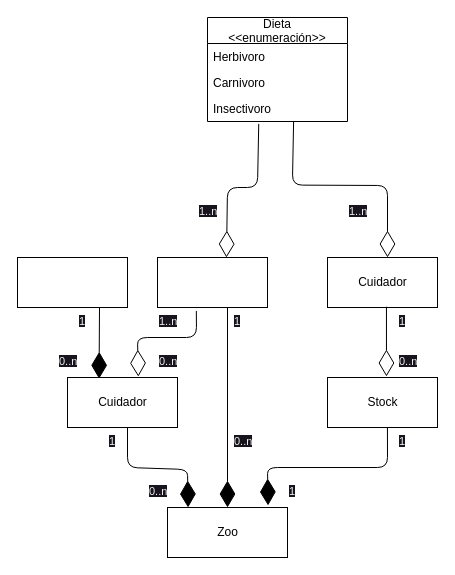
Some shapes in this 455 by 575 pixel diagram are drawn without their labels. Each missing label, with the centre of its shape:
"Animal" belongs at pixel 212 282.
"Vacaciones" belongs at pixel 72 282.
